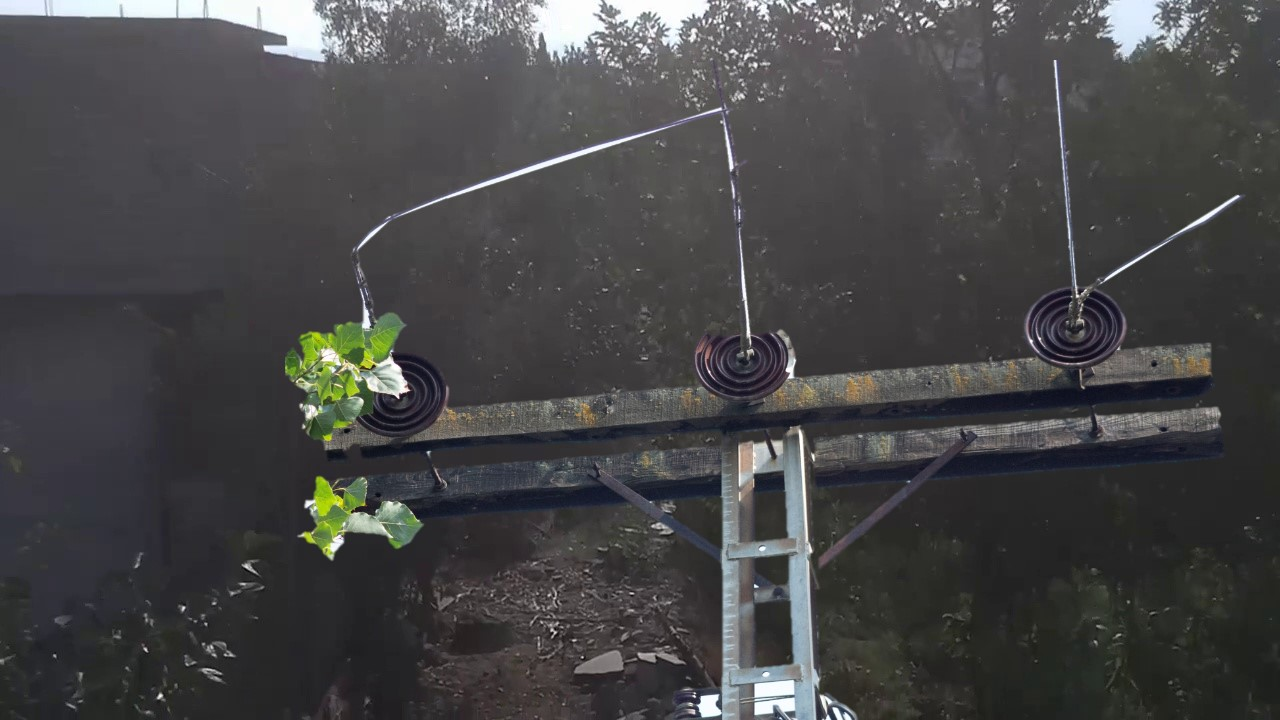defect_disc: (690, 322, 799, 406)
insulator_disc: (1022, 284, 1130, 372), (390, 350, 453, 438)
